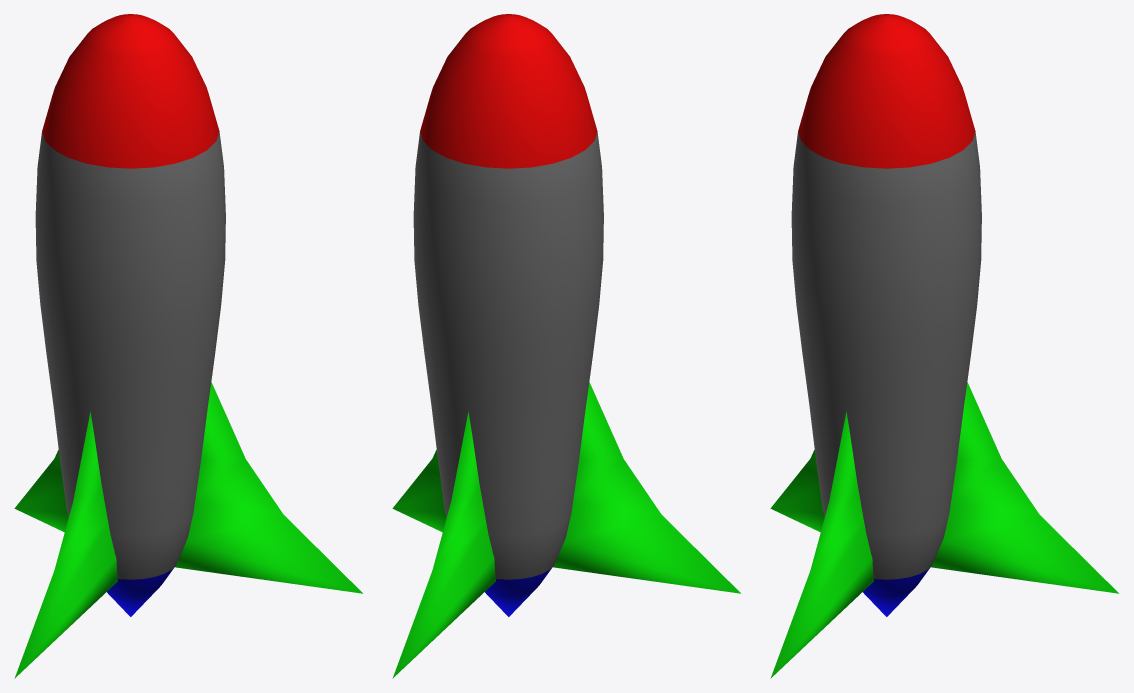
The model's file is Rocket.fbx.
3 renders of one model, left to right at view 1: azimuth 30°, elevation 25°; view 2: azimuth 150°, elevation 25°; view 3: azimuth 270°, elevation 25°, orthographic.
Visible parts, largest first — view 1: pCylinder1, pCone2, pCone3, pCone1; view 2: pCylinder1, pCone3, pCone1, pCone2; view 3: pCylinder1, pCone1, pCone2, pCone3.
Part boxes in pixels (<box>): pCylinder1: <box>35,14,225,616</box>; pCone2: <box>175,382,362,593</box>; pCone3: <box>14,411,117,678</box>; pCone1: <box>14,450,68,532</box>; pCylinder1: <box>413,14,603,616</box>; pCone3: <box>553,382,740,593</box>; pCone1: <box>392,411,495,678</box>; pCone2: <box>392,450,446,532</box>; pCylinder1: <box>791,14,981,616</box>; pCone1: <box>931,382,1118,593</box>; pCone2: <box>770,411,873,678</box>; pCone3: <box>770,450,824,532</box>.
Size of the model in its own units: 47.53 by 78.13 by 41.16.
